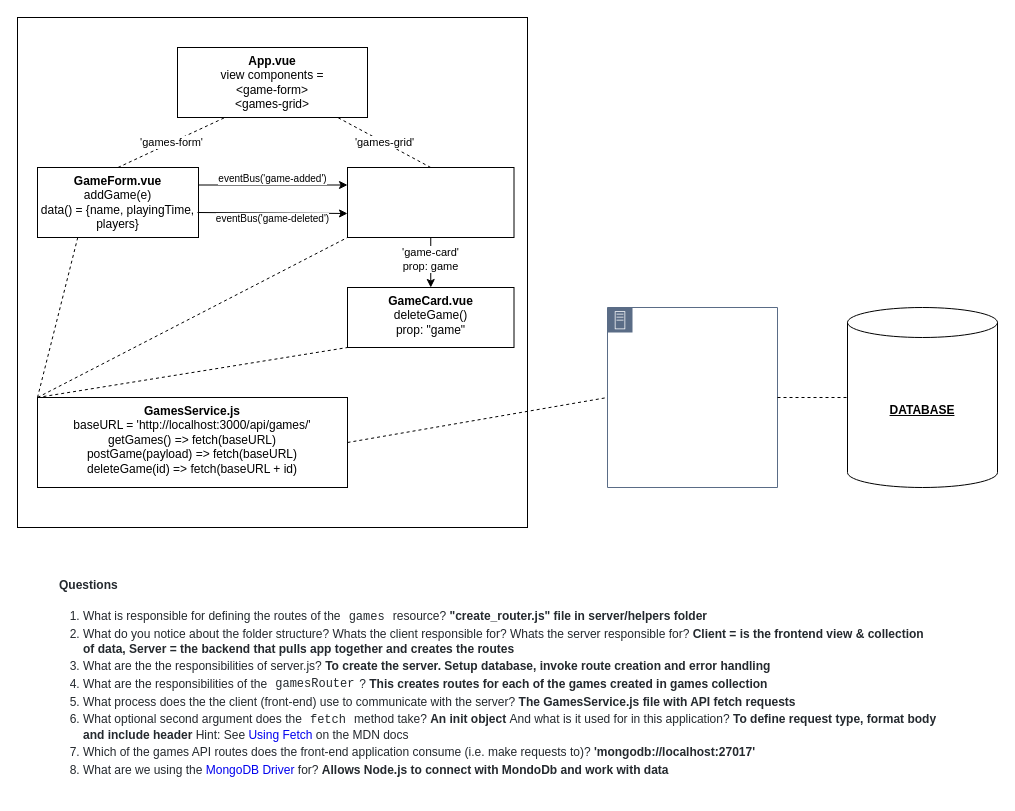
The diagram is 1015 pixels wide and 811 high, and some of its shapes have lost their labels. The box of each missing label's shape, as (x1, y1, x2, y2) in pixels:
CLIENT: (16, 16, 528, 528)
GamesGrid.vue deleteGame() data() = games [ ] view = <game-card>: (346, 166, 514, 238)
SERVER: (606, 306, 778, 488)
